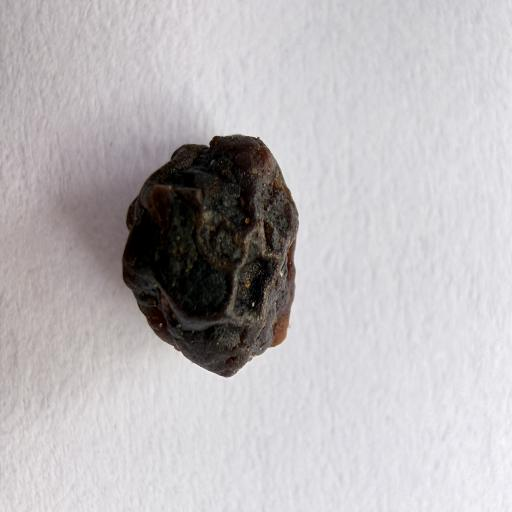Black_pepper: (102, 118, 314, 388)
